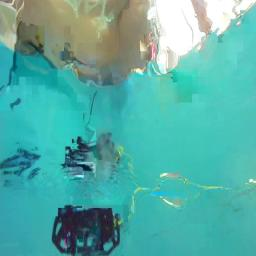Side: (51, 205, 120, 256)
